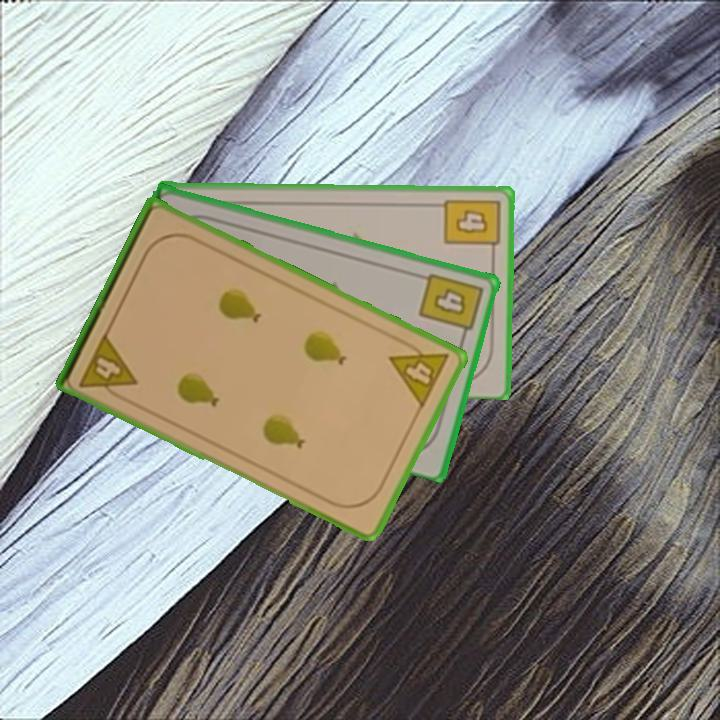4b: (415, 269, 486, 342), (441, 195, 502, 258)
4p: (385, 334, 452, 411), (75, 329, 140, 405)
